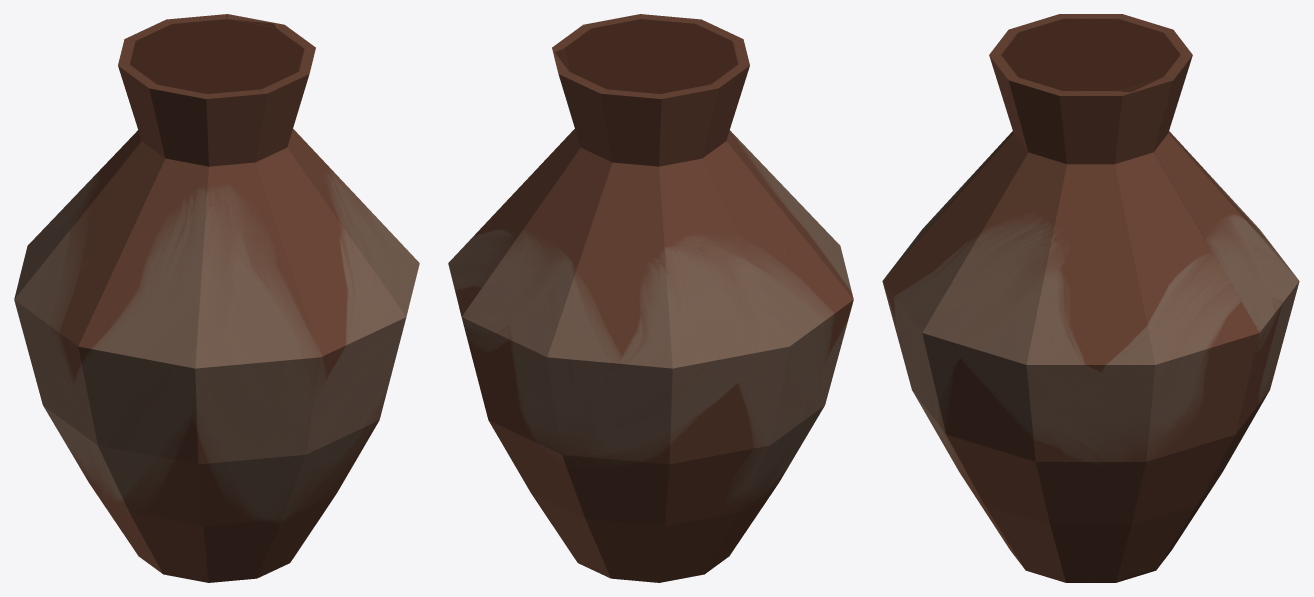
Rendered from vase.fbx.
The picture shows the model from 3 angles, left to right: view 1: azimuth 30°, elevation 25°; view 2: azimuth 150°, elevation 25°; view 3: azimuth 270°, elevation 25°; orthographic projection.
Parts seen in each view (by area): view 1: Vase1; view 2: Vase1; view 3: Vase1.
Boxes of the visible parts, x1,y1,x2,y2 form: Vase1: [14, 14, 419, 582]; Vase1: [448, 14, 853, 582]; Vase1: [882, 14, 1299, 582].
Bounding box in the file's own units: 1.9 × 2.62 × 2.
